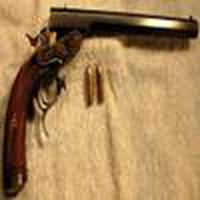gun: (2, 5, 200, 175)
